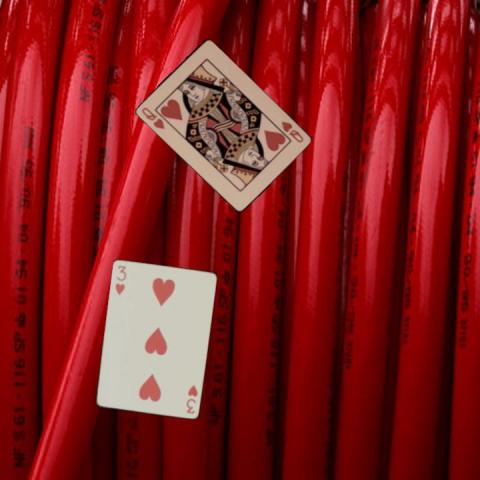3h: (183, 382, 199, 415), (112, 262, 127, 296)
Qh: (139, 104, 166, 131), (278, 118, 305, 144)
